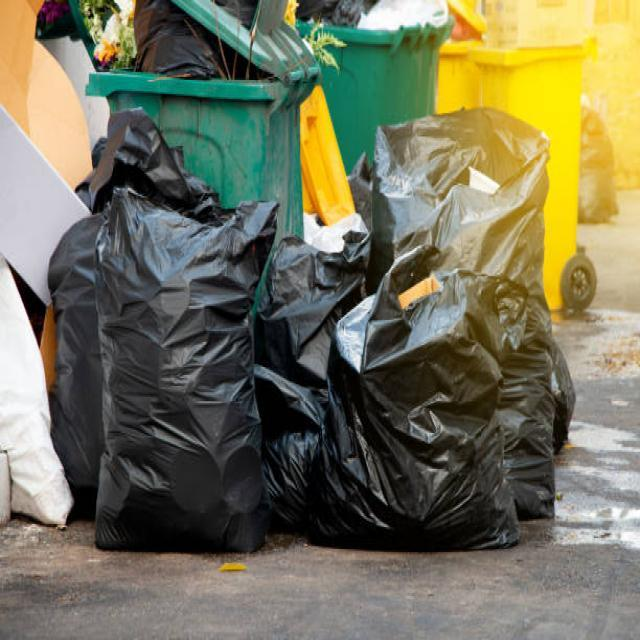garbage: (19, 4, 588, 553)
